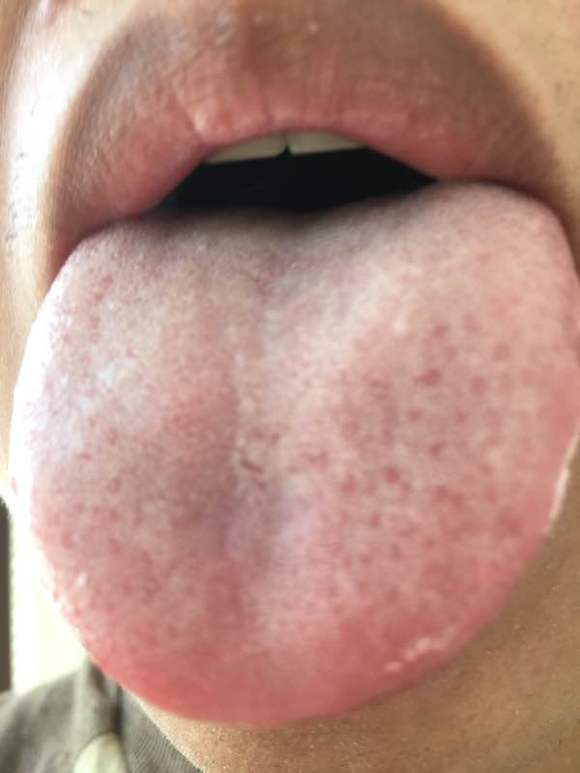baitaishe: (9, 181, 580, 722)
hongdianshe: (380, 457, 405, 491)
pangdashe: (9, 181, 580, 722)
